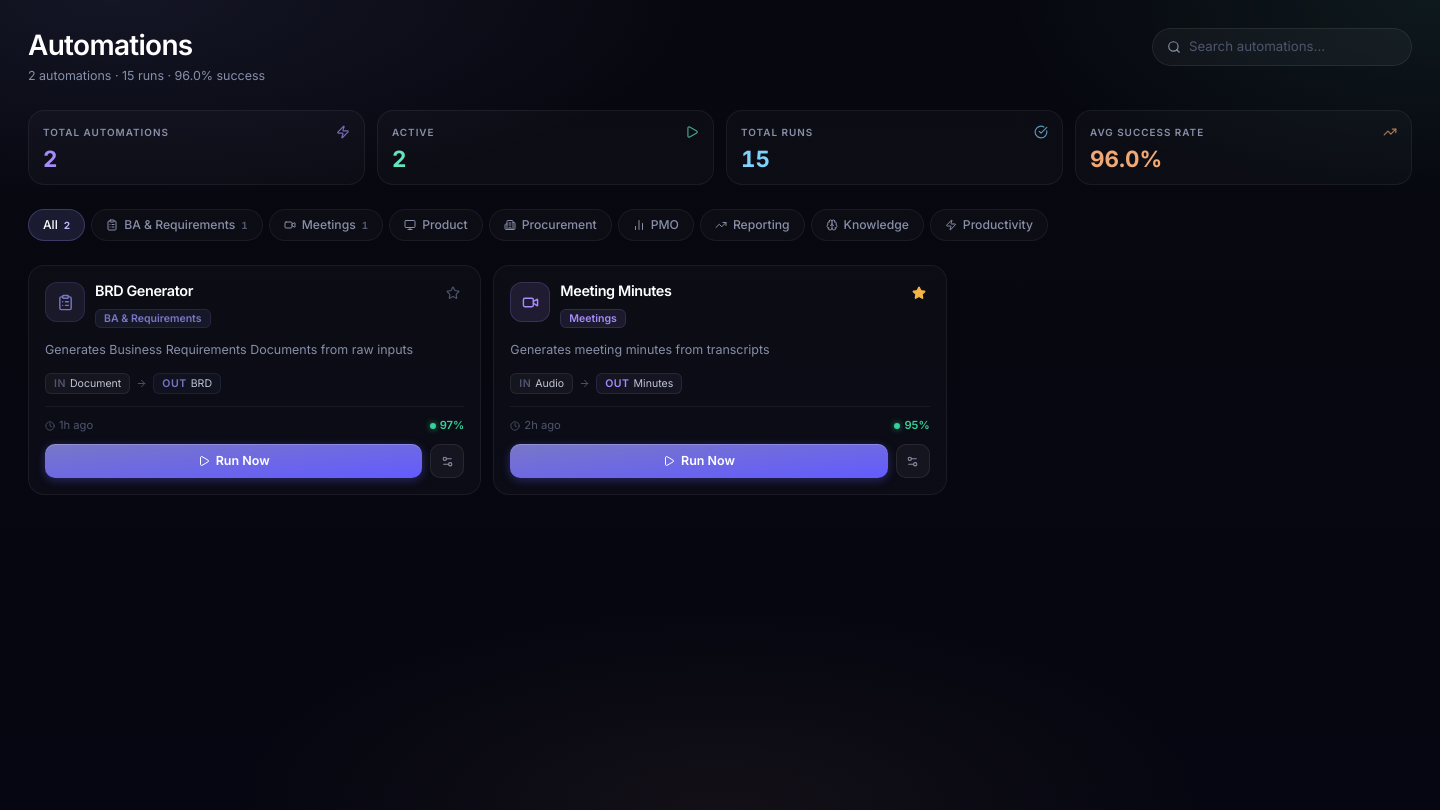
Test: Automations – Search & Filter › shows all automations when All tab is selected
Expected: the heading "BRD Generator" is shown, [95,282,193,299]
Click the button "Meetings 1". click: (326, 225)
box: [269,209,383,241]
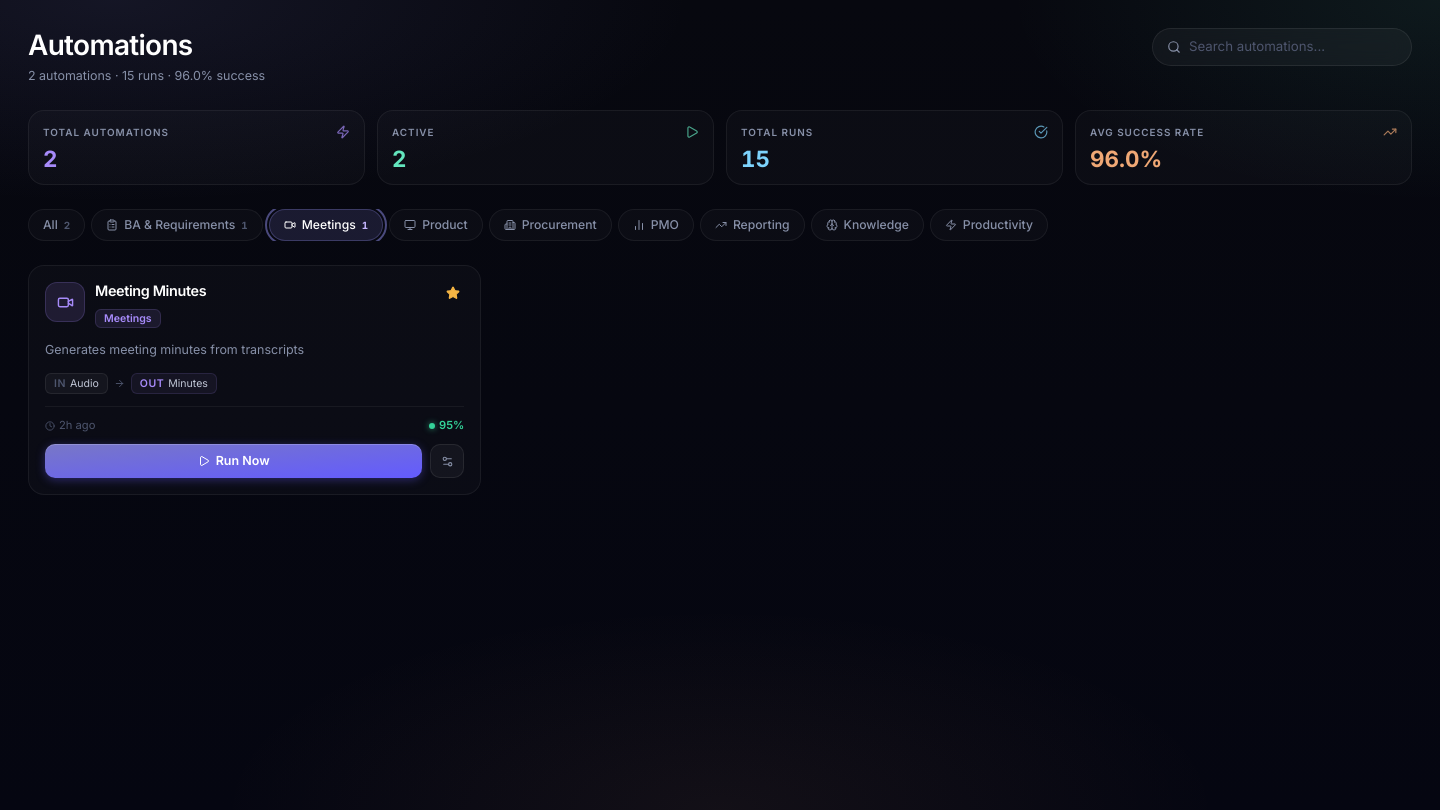
Click the button "All 2". click: (57, 225)
box: [28,209,85,241]
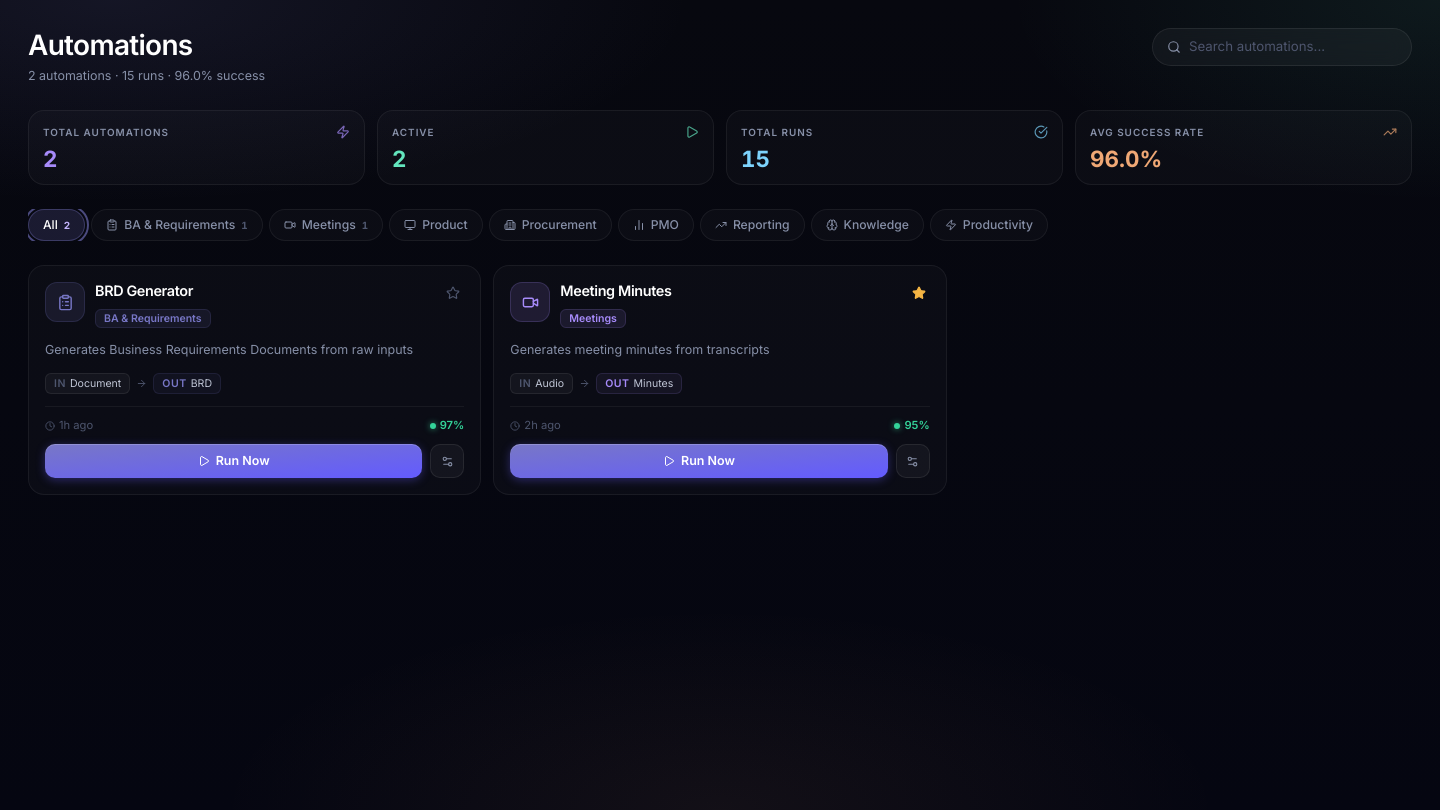
Expected: the heading "Meeting Minutes" is shown, [560,282,672,299]
Result: the heading "BRD Generator" is shown at [95,282,193,299]
